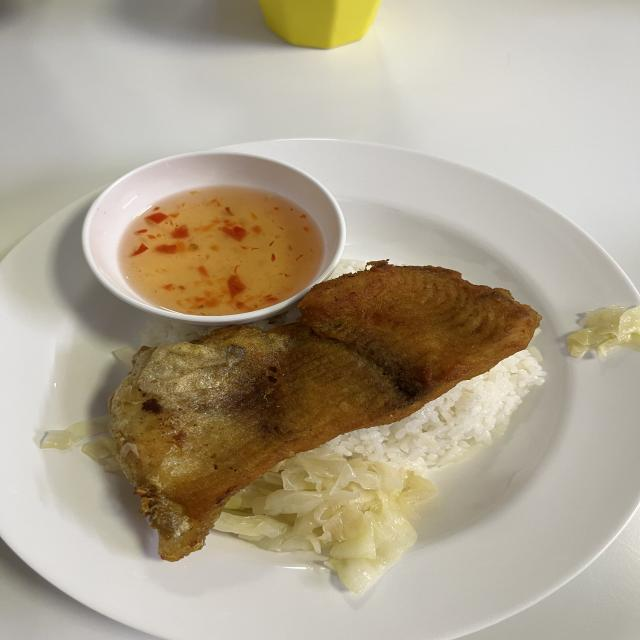ca chien: (110, 260, 542, 560)
com: (326, 347, 545, 469)
nuoc mam: (119, 188, 323, 316)
rau: (215, 453, 436, 593), (566, 305, 640, 358)
